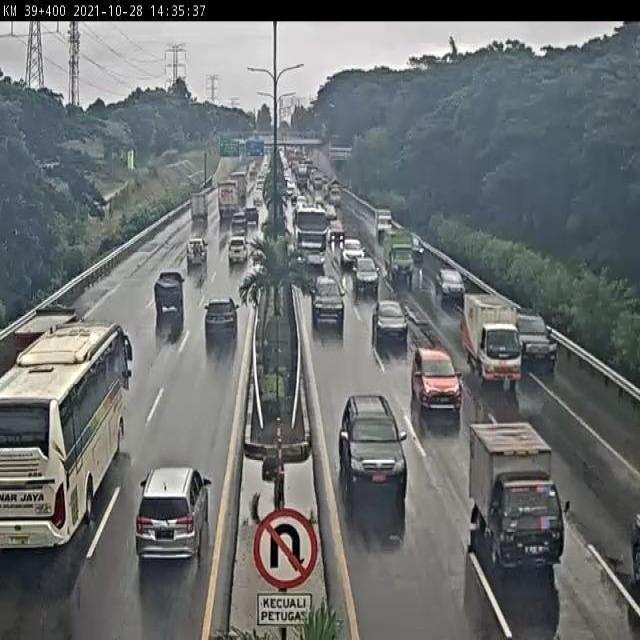big bus: (0, 323, 128, 544), (295, 201, 327, 267)
big truck: (217, 180, 240, 220), (230, 172, 248, 205)
car: (466, 424, 566, 569), (136, 468, 212, 563), (340, 393, 405, 487), (412, 346, 461, 411), (309, 273, 344, 328), (516, 318, 556, 366), (372, 301, 407, 343), (204, 300, 238, 339), (434, 270, 467, 302), (349, 256, 377, 289), (225, 236, 251, 267), (183, 239, 208, 269), (338, 236, 361, 260), (232, 212, 249, 235), (244, 209, 259, 228), (330, 218, 344, 238), (252, 191, 262, 208), (323, 204, 334, 217)
small truck: (462, 294, 521, 386), (17, 308, 75, 355), (383, 229, 415, 284), (154, 272, 185, 316), (373, 209, 393, 240), (190, 195, 208, 222)
